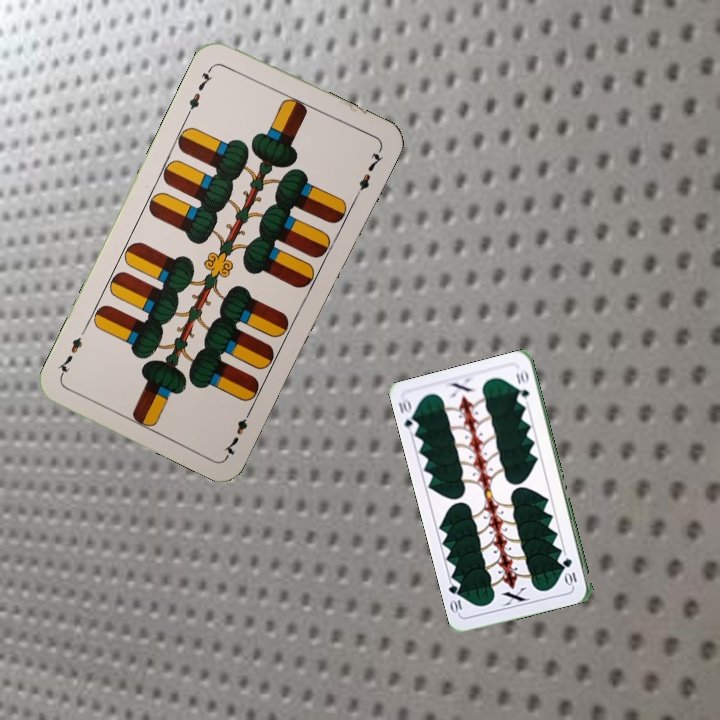E7: (219, 404, 255, 459), (183, 62, 216, 117)
G10: (394, 395, 421, 436), (560, 554, 579, 588)
